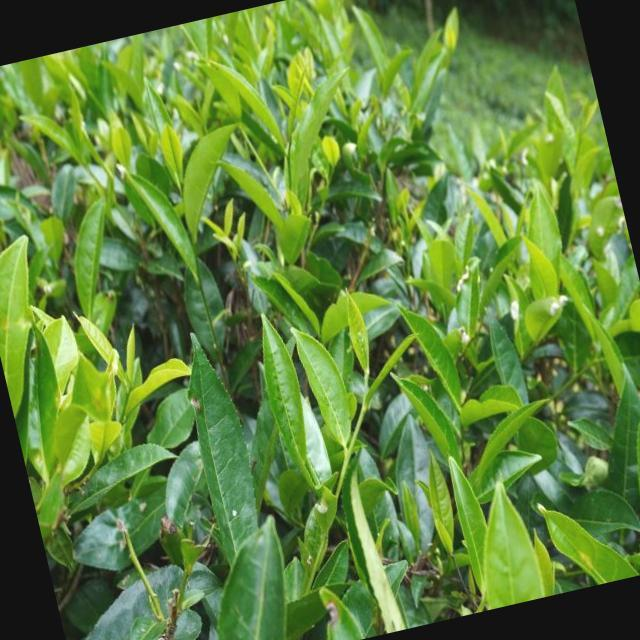Stem: (362, 406, 367, 412)
